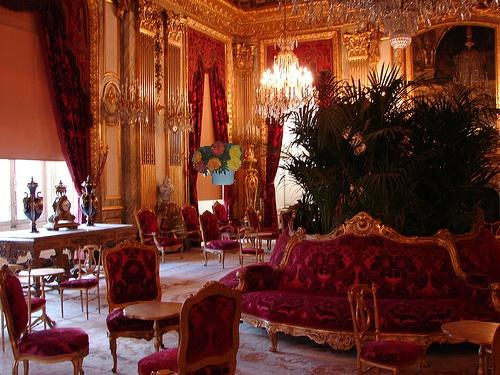tampered: (193, 142, 242, 185)
